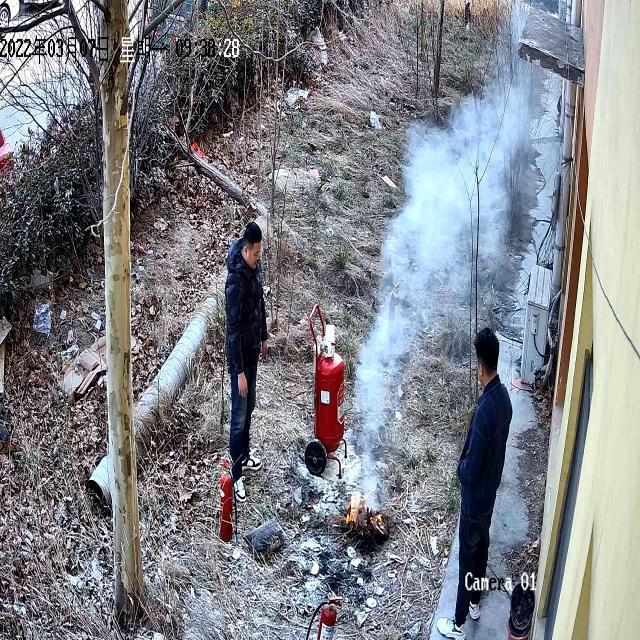Fire: (344, 486, 386, 549)
Smoke: (373, 61, 554, 312), (352, 286, 430, 444)
